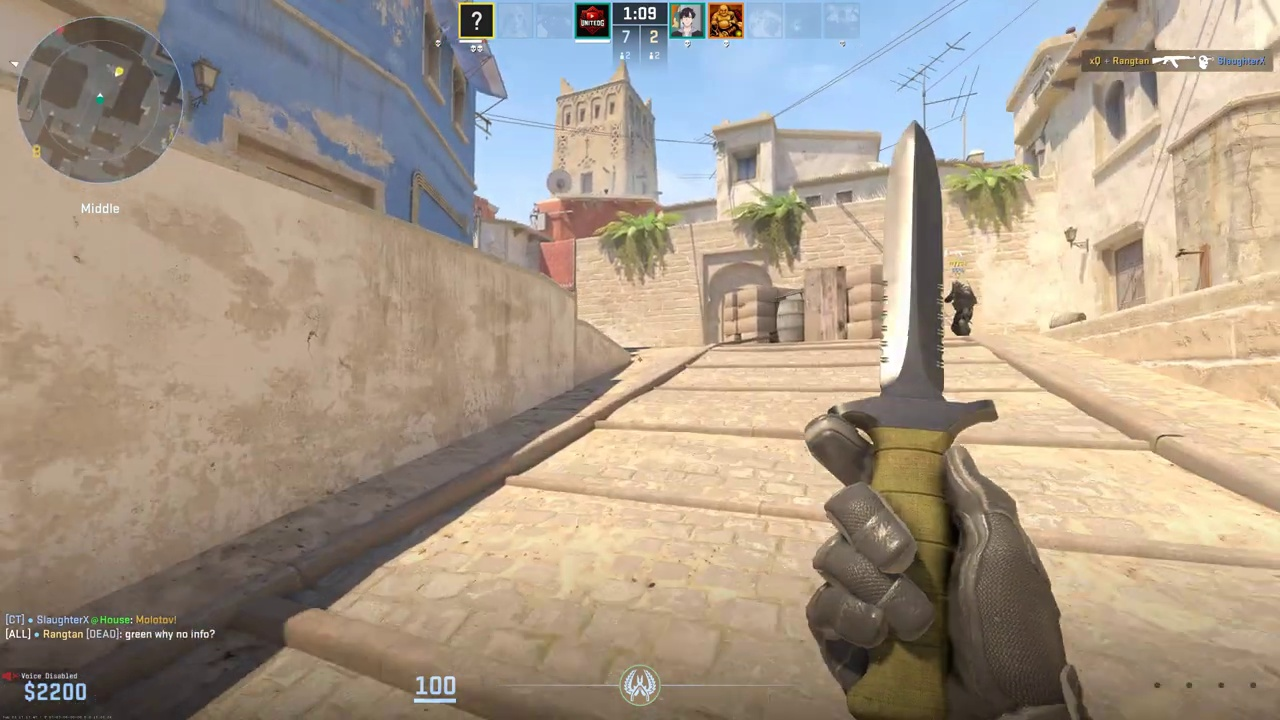CT: (950, 281, 975, 336)
